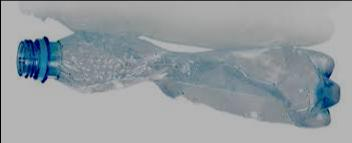Plastic: (14, 29, 340, 134)
